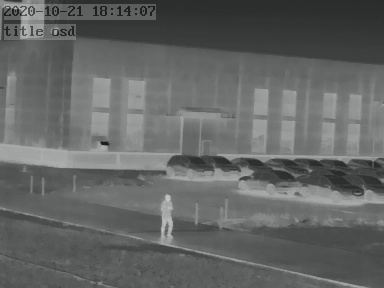person: (159, 193, 175, 237)
vehicle: (301, 171, 363, 200), (238, 169, 304, 193), (166, 152, 211, 179), (349, 171, 384, 199), (204, 153, 242, 177), (233, 155, 271, 172), (262, 155, 301, 171), (347, 156, 378, 170), (296, 156, 324, 169), (317, 157, 347, 169)
